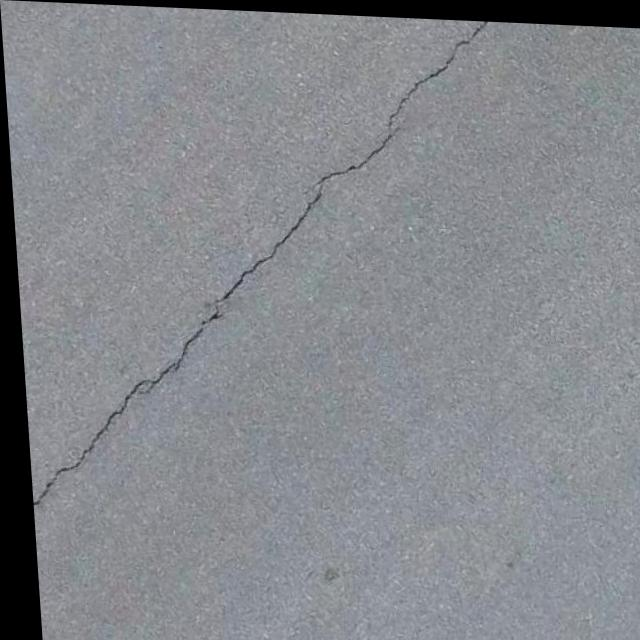Crack: (14, 268, 258, 536), (229, 26, 479, 262)
